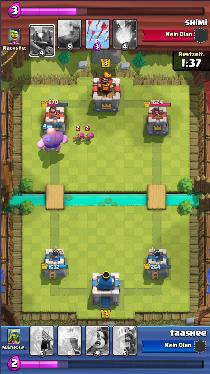ally_giant: (37, 126, 68, 152)
enemy_archer: (73, 133, 84, 144), (84, 133, 94, 143)
